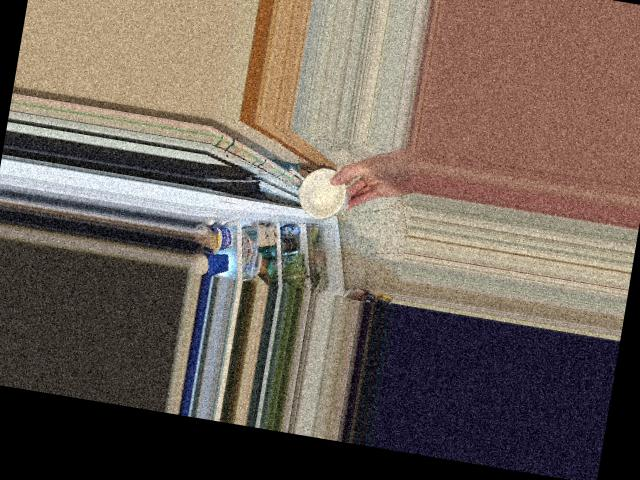cotage: (288, 166, 348, 223)
